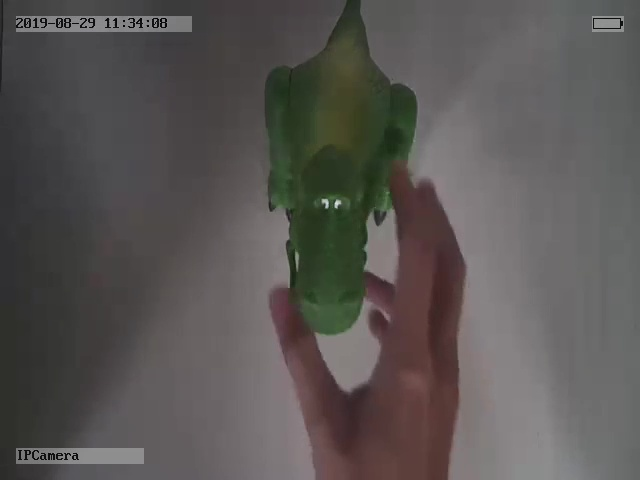rex: (257, 2, 419, 338)
